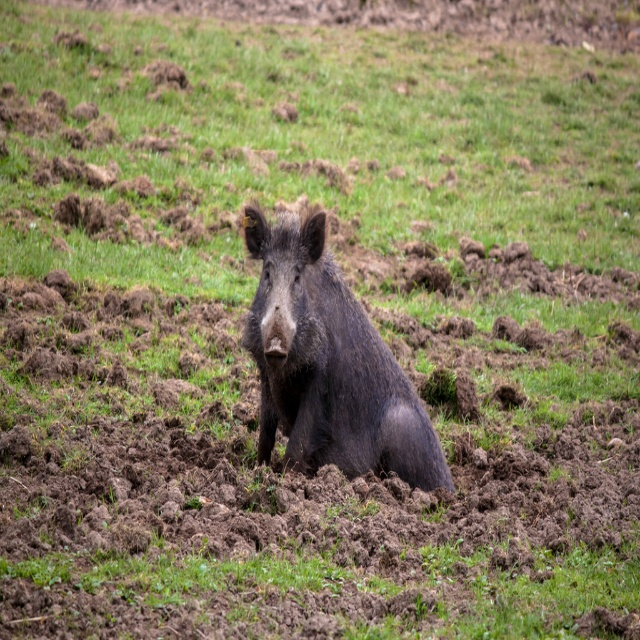Pig: (242, 200, 456, 494)
